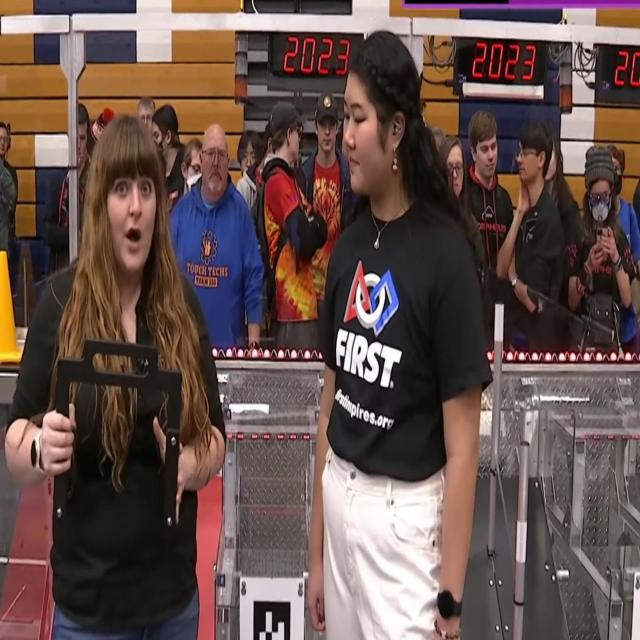frc_cone: (0, 248, 25, 370)
